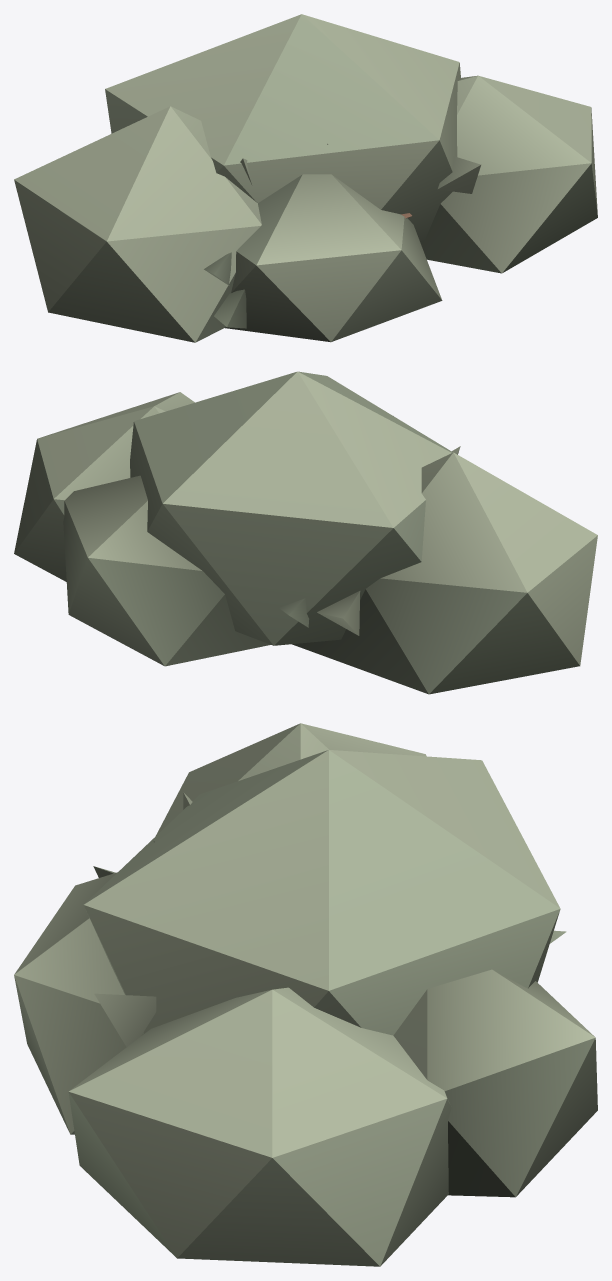
The model's file is bush.glb.
The picture shows the model from 3 angles, top to bottom: view 1: azimuth 30°, elevation 25°; view 2: azimuth 150°, elevation 25°; view 3: azimuth 270°, elevation 25°; orthographic projection. The views are drawn at different scales.
Bounding box in the file's own units: 3.22 × 1.36 × 2.07.
